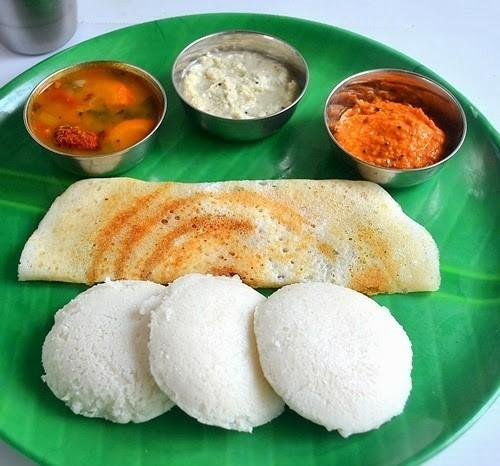CoconutChutney: (180, 47, 299, 120)
Idli: (254, 281, 412, 437), (150, 274, 284, 433), (41, 277, 177, 424)
